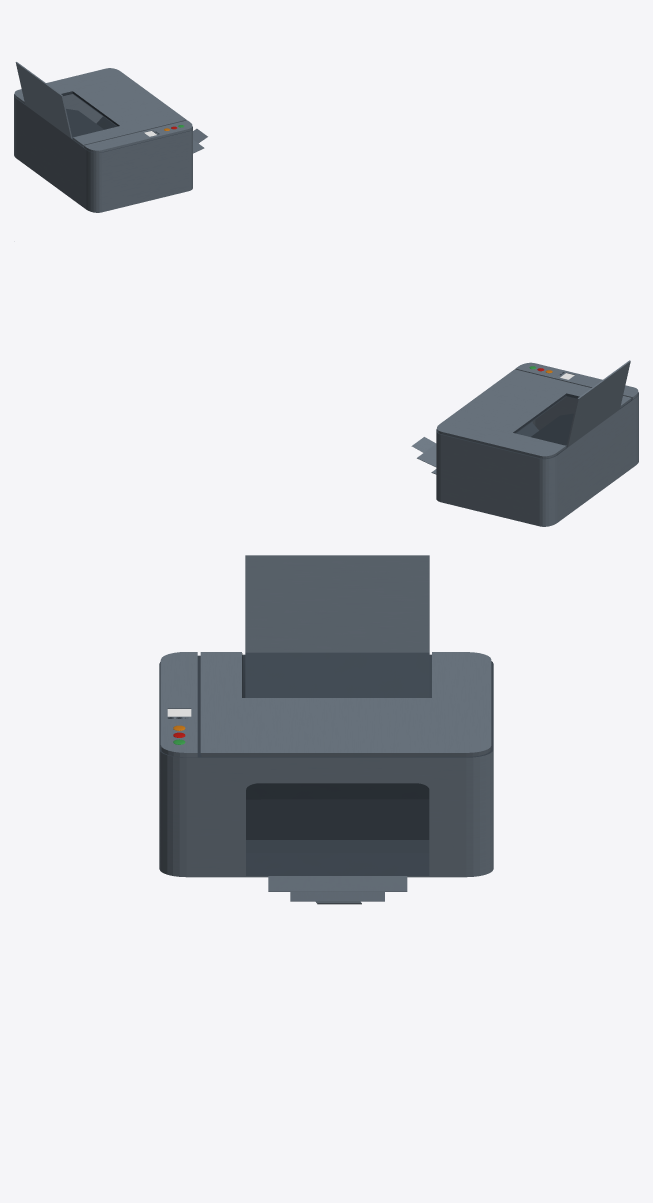
The model's file is 05_printer_destructible.glb.
3 views of the same model, one above another, from view 1: azimuth 30°, elevation 25°; view 2: azimuth 150°, elevation 25°; view 3: azimuth 270°, elevation 25° (orthographic). The views are drawn at different scales.
Parts seen in each view (by area): view 1: Printer_desktop.body, Printer_desktop.top, Printer_desktop.frontpanel; view 2: Printer_desktop.body, Printer_desktop.top, Printer_desktop.frontpanel; view 3: Printer_desktop.body, Printer_desktop.top, Printer_desktop.frontpanel.
Part boxes in pixels (bbox=[...]): Printer_desktop.body: bbox=[14, 68, 192, 212]; Printer_desktop.top: bbox=[15, 62, 103, 138]; Printer_desktop.frontpanel: bbox=[96, 116, 207, 153]; Printer_desktop.body: bbox=[436, 362, 638, 526]; Printer_desktop.top: bbox=[531, 360, 630, 447]; Printer_desktop.frontpanel: bbox=[411, 422, 538, 474]; Printer_desktop.body: bbox=[159, 652, 493, 877]; Printer_desktop.top: bbox=[245, 555, 429, 697]; Printer_desktop.frontpanel: bbox=[246, 783, 429, 904].
Size of what is drawn, in the model's own units: 1.45 by 0.2607 by 0.3736.
Materials: 6 (6 with a texture image).
